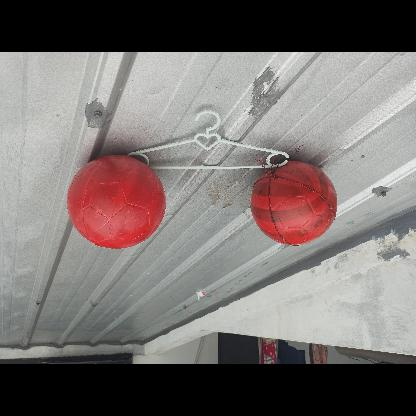red_ball: (68, 154, 166, 252), (252, 162, 338, 249)
